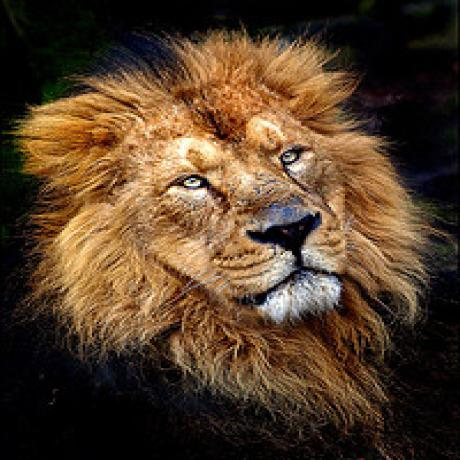Lion: (23, 31, 457, 448)
